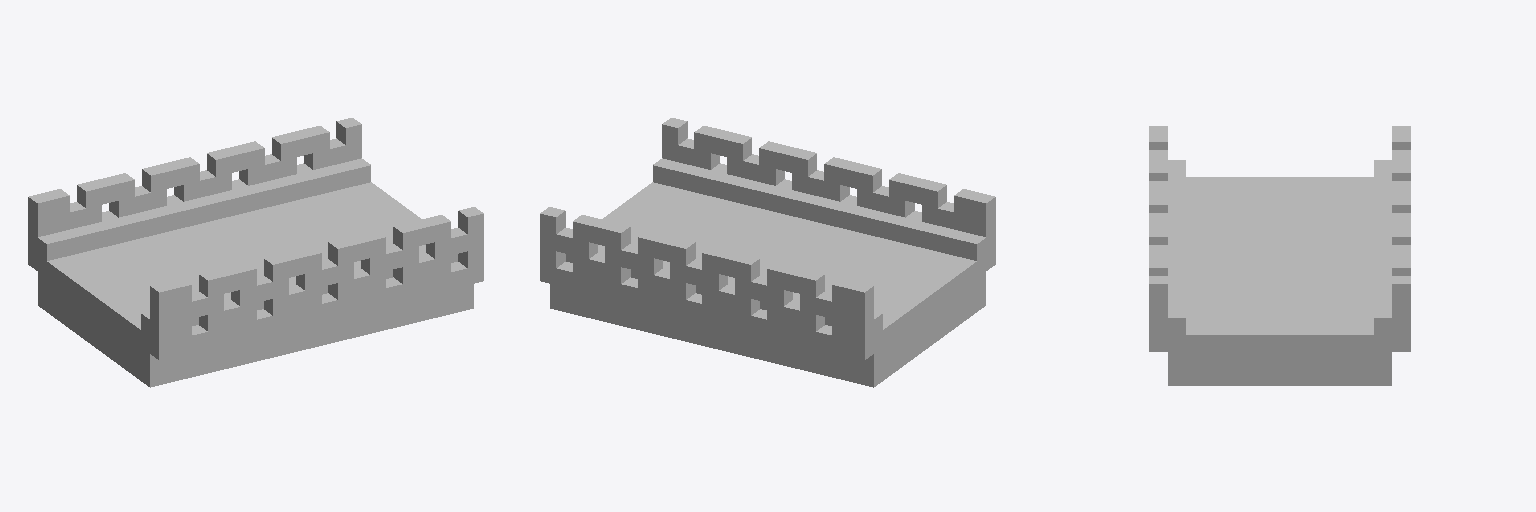
The model's file is wall_1010.obj.
3 views of the same model, side by side, from view 1: azimuth 30°, elevation 25°; view 2: azimuth 150°, elevation 25°; view 3: azimuth 270°, elevation 25° (orthographic).
Visible parts, largest first — view 1: wall_1010; view 2: wall_1010; view 3: wall_1010.
Part boxes in pixels (x1,y1,x2,y2): wall_1010: (28,118,483,387); wall_1010: (540,118,995,387); wall_1010: (1149,126,1410,385).
Bounding box in the file's own units: 20 × 6 × 14.